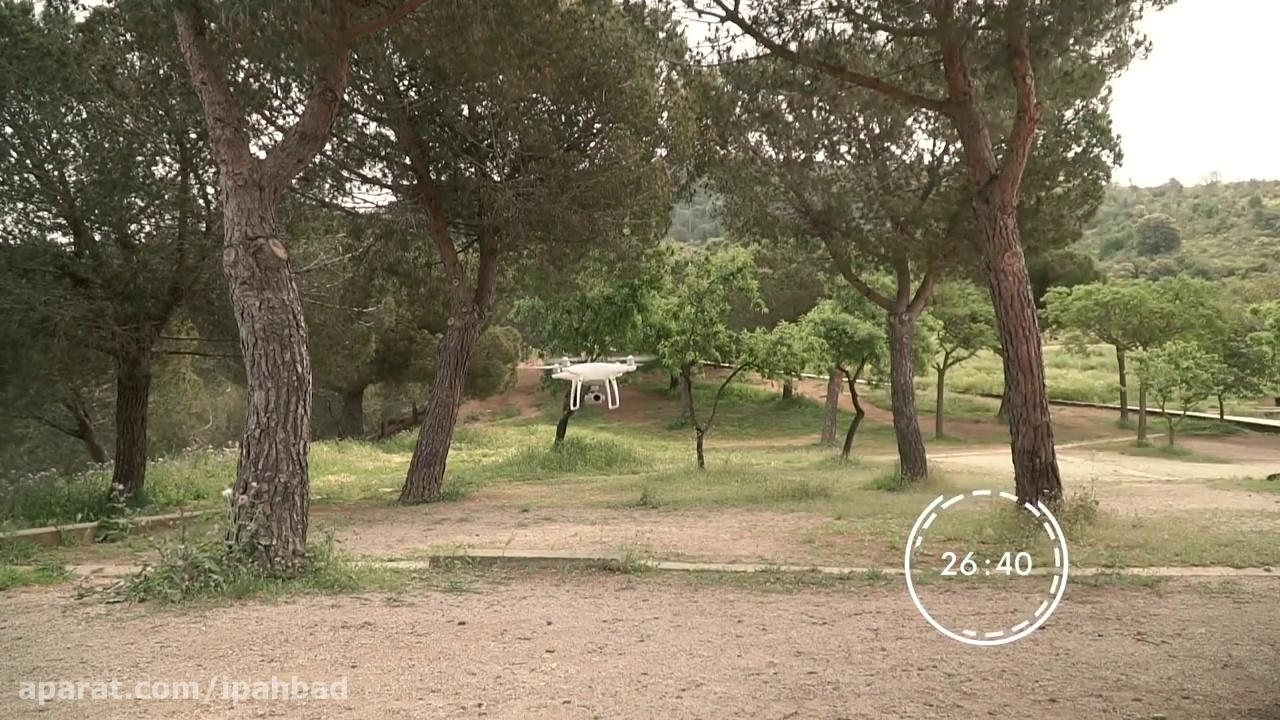drone: (536, 347, 658, 413)
